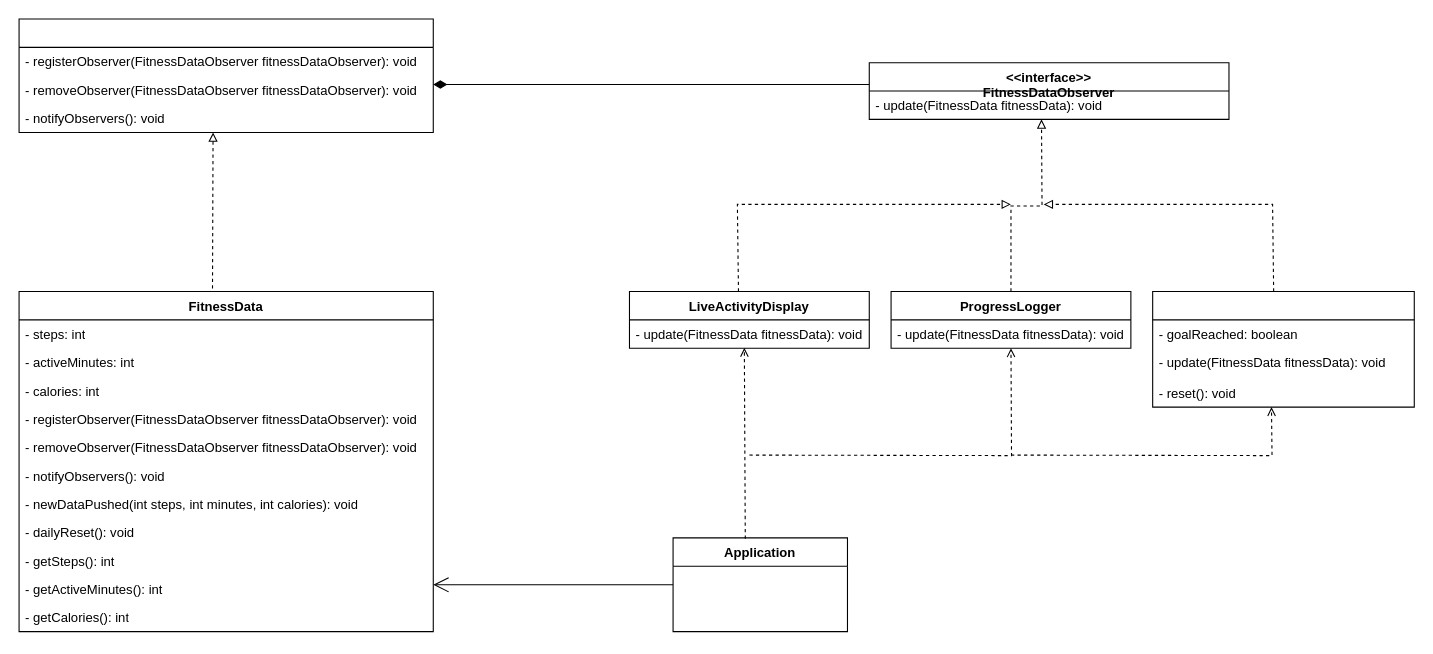
Image size: 1433x654. Some labels were removed from this diagram. Each missing label, with the box of its shape:
<<interface>> FitnessDataObservable: (18, 18, 433, 132)
GoalNotifier: (1152, 290, 1414, 407)
